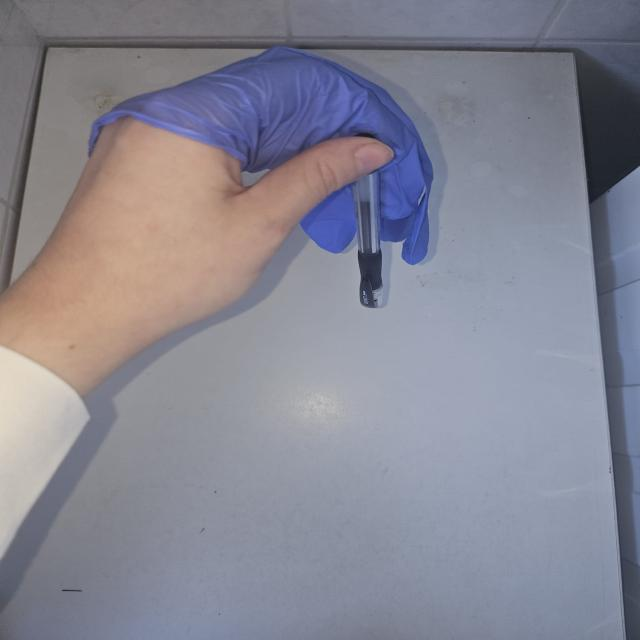glove_partial: (57, 41, 436, 334)
